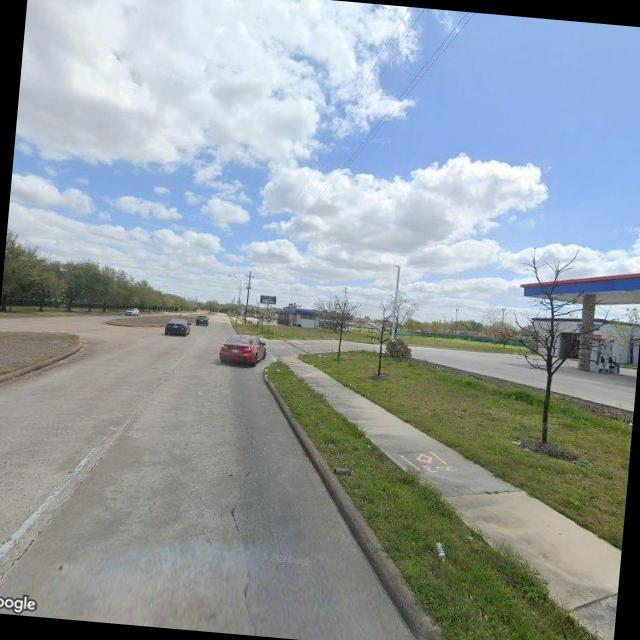pothole: (0, 350, 169, 614), (196, 376, 278, 632)
